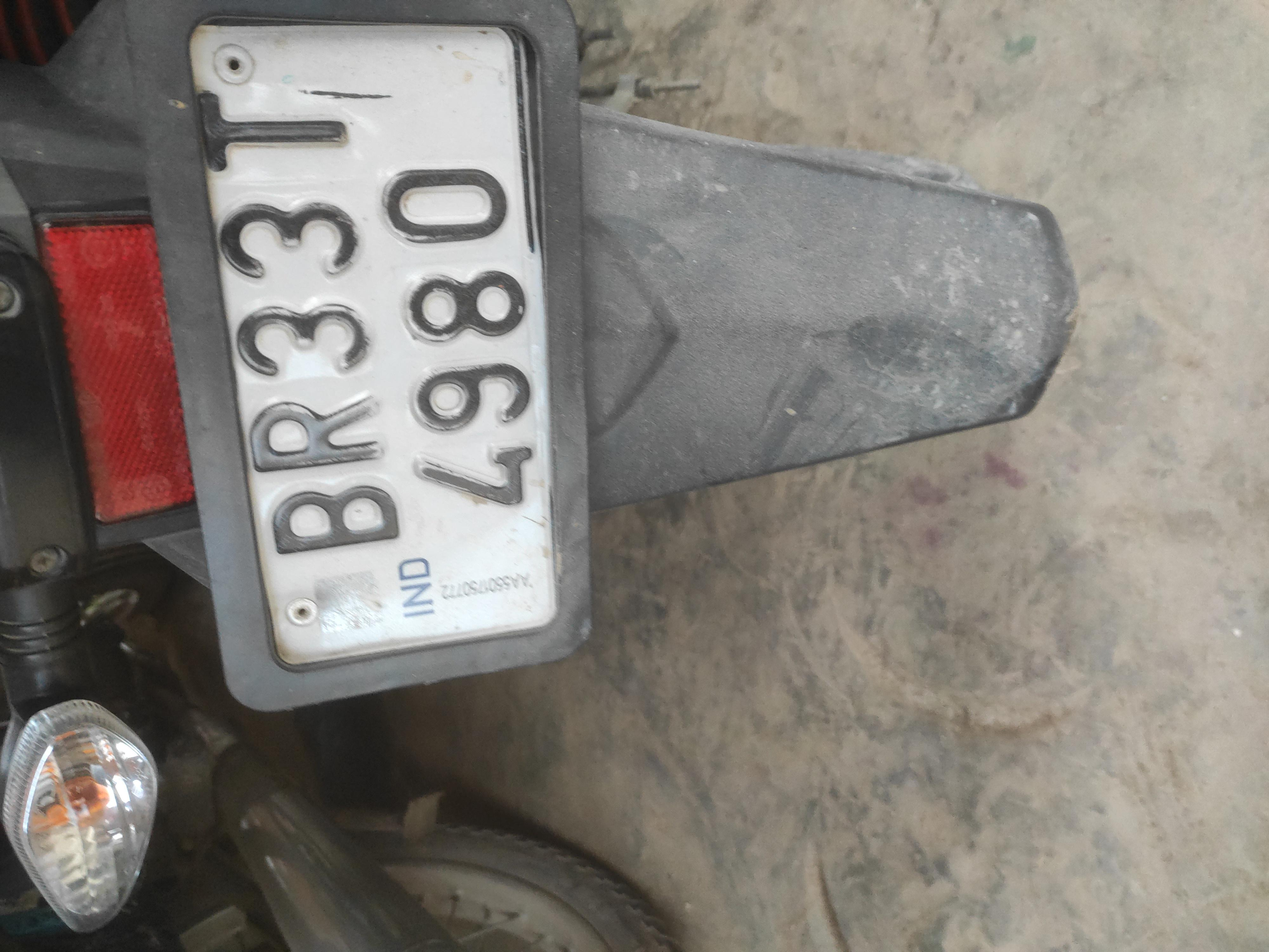number_platerotation: (367, 137, 1255, 425)
